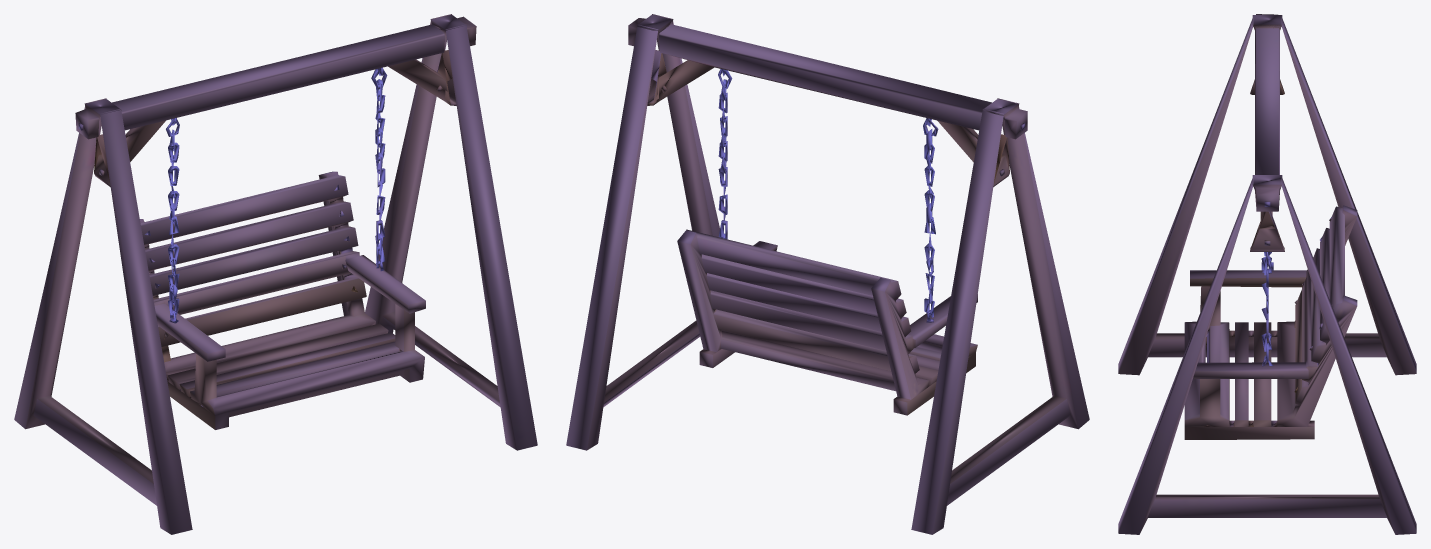
Rendered from model.progressive.glb.
3 views of the same model, side by side, from view 1: azimuth 30°, elevation 25°; view 2: azimuth 150°, elevation 25°; view 3: azimuth 270°, elevation 25° (orthographic). The views are drawn at different scales.
Parts seen in each view (by area): view 1: material; view 2: material; view 3: material.
Part boxes in pixels (x1,y1,x2,y2): material: [14, 14, 537, 534]; material: [566, 14, 1089, 534]; material: [1118, 14, 1416, 534].
Size of the model in its own units: 1.89 by 1.7 by 1.31.
Materials: 1 (1 with a texture image).
